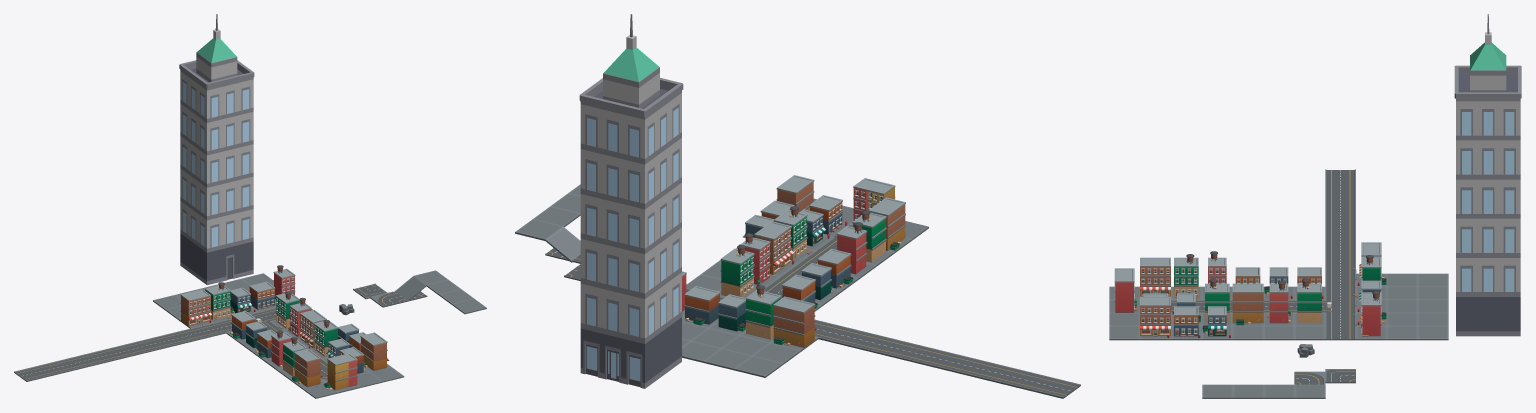
The picture shows the model from 3 angles, left to right: view 1: azimuth 30°, elevation 25°; view 2: azimuth 150°, elevation 25°; view 3: azimuth 270°, elevation 25°; orthographic projection. The views are drawn at different scales.
Parts seen in each view (by area): view 1: skyscraperE, building_F, building_E.002, building_E, building_E.003, building_D.002, building_D.001, building_B.002, building_E.001, building_D.003, building_D, building_C (+7 smaller); view 2: skyscraperE, building_E.002, building_D.003, building_D.002, building_E.001, building_B.002, building_C, building_E, building_D, building_F, building_A.002, building_D.001 (+24 smaller); view 3: skyscraperE, building_E.001, building_E.003, building_D.003, building_E, building_C.002, building_F, building_D, building_C.001, building_D.001, building_B.004, building_A.001 (+41 smaller).
Part boxes in pixels (x1,y1,x2,y2): skyscraperE: [179, 14, 254, 285]; building_F: [327, 353, 359, 393]; building_E.002: [178, 289, 212, 328]; building_E: [290, 348, 324, 389]; building_E.003: [360, 332, 389, 370]; building_D.002: [205, 282, 231, 322]; building_D.001: [310, 320, 338, 358]; building_B.002: [249, 281, 276, 311]; building_E.001: [297, 309, 326, 349]; building_D.003: [271, 291, 299, 330]; building_D: [277, 337, 306, 379]; building_C: [264, 331, 292, 370]; skyscraperE: [579, 14, 683, 388]; building_E.002: [770, 296, 818, 351]; building_D.003: [718, 245, 756, 297]; building_D.002: [740, 285, 781, 342]; building_E.001: [754, 221, 796, 276]; building_B.002: [682, 286, 720, 327]; building_C: [836, 222, 875, 279]; building_E: [868, 197, 911, 253]; building_D: [852, 210, 893, 266]; building_F: [850, 178, 895, 225]; building_A.002: [709, 294, 745, 335]; building_D.001: [773, 206, 814, 263]; skyscraperE: [1454, 14, 1521, 336]; building_E.001: [1232, 283, 1263, 325]; building_E.003: [1140, 296, 1170, 340]; building_D.003: [1294, 278, 1325, 325]; building_E: [1140, 257, 1170, 296]; building_C.002: [1356, 291, 1386, 340]; building_F: [1109, 268, 1139, 312]; building_D: [1171, 254, 1201, 299]; building_C.001: [1263, 281, 1294, 325]; building_D.001: [1201, 278, 1232, 325]; building_B.004: [1172, 306, 1201, 340]; building_A.001: [1202, 306, 1232, 340].
Bounding box in the file's own units: 3695 × 2210 × 2674.
85 materials, 77 textured.
